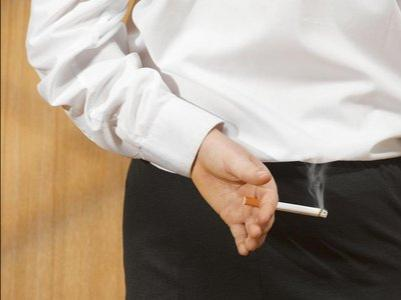Cigarette: (242, 196, 327, 219)
